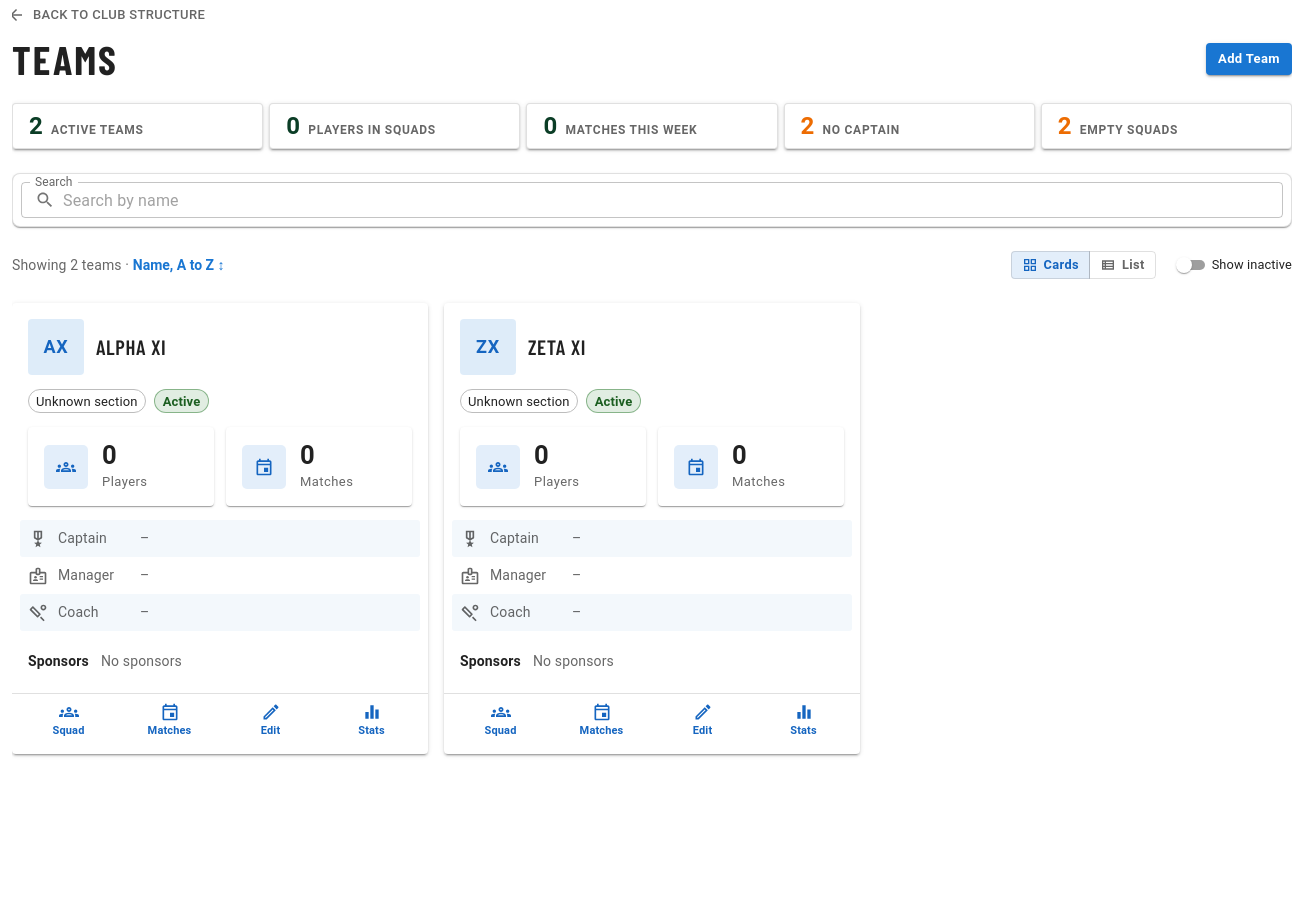
Test: TeamList › clicking the sort icon reverses the card order, and flips its own accessible name
The width and height of the screenshot is (1304, 900).
Expected: the link "Alpha XI" is shown, [96, 335, 166, 359]
Expected: the headings read "Alpha XI", "Zeta XI", in this order, [96, 335, 166, 359]; [528, 335, 586, 359]
Click the button "Name, A to Z ↕".
click(179, 265)  # box [133, 255, 225, 275]
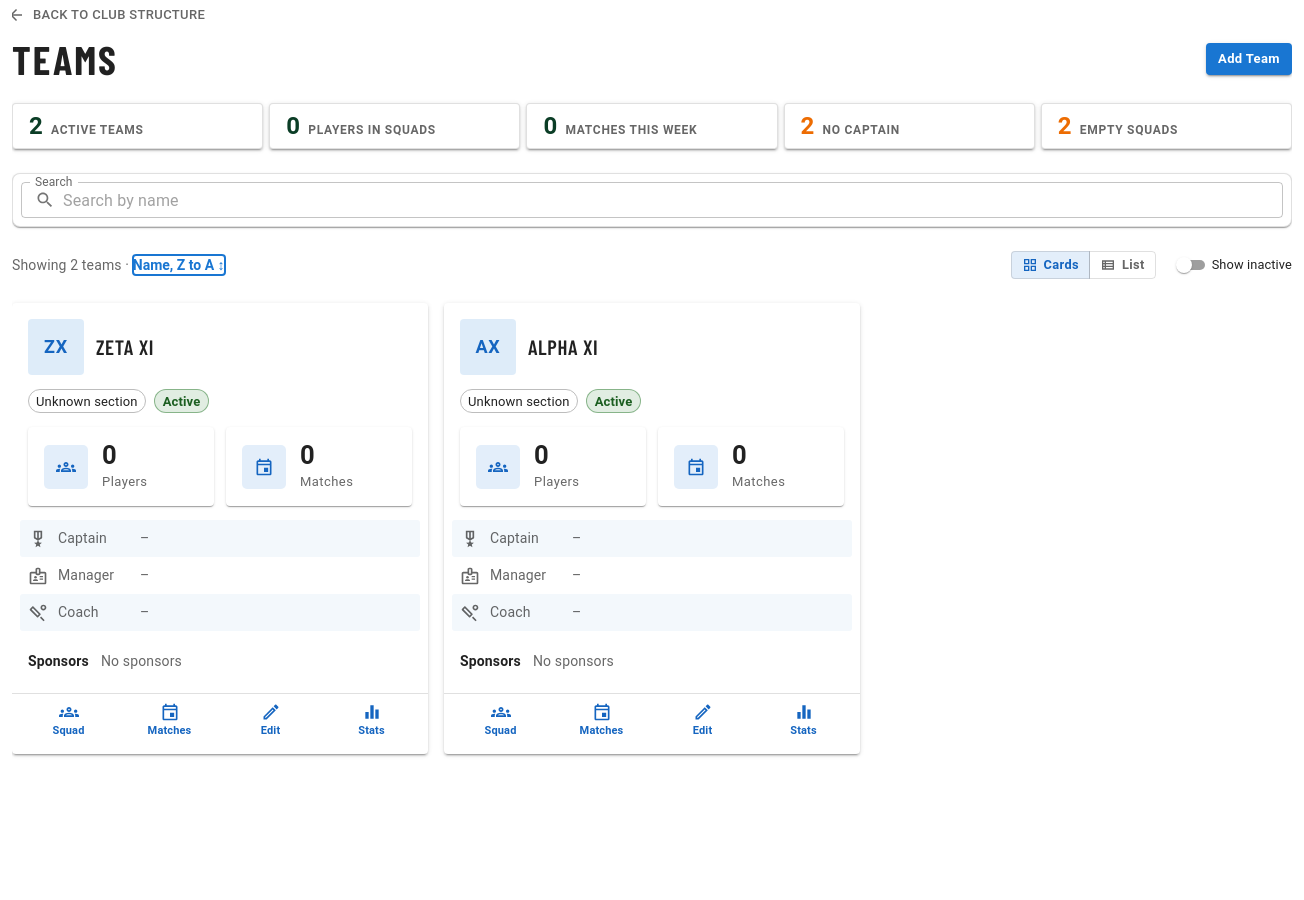
Result: the headings read "Zeta XI", "Alpha XI", in this order at [96, 335, 154, 359]; [528, 335, 598, 359]
Result: the button "Name, Z to A ↕" is shown at [133, 255, 225, 275]
